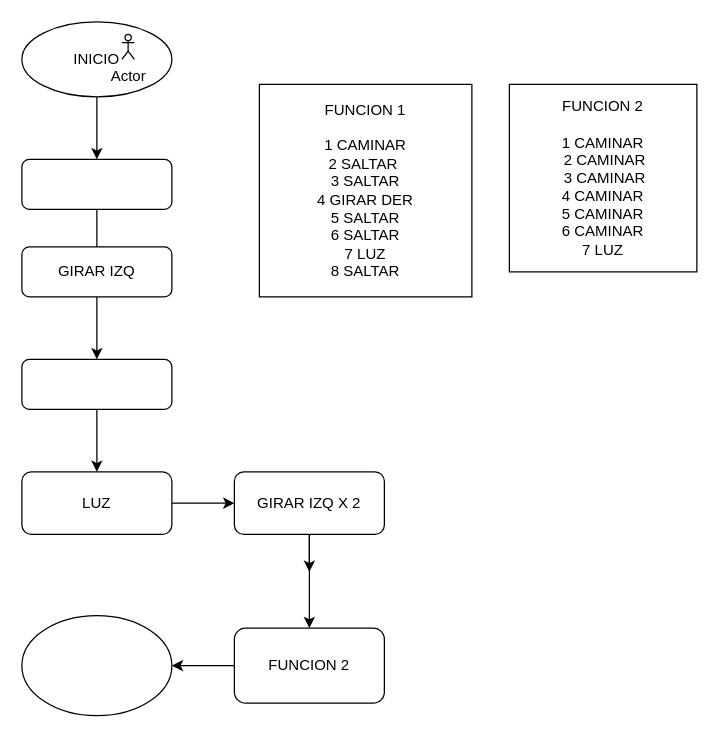
Image size: 719x738. Some labels were removed from this diagram. Here are the shapes that lost their labels. From the top down, the centre of each, then its label:
At (96,183): "FUNCION 1".
At (96,383): "CAMINAR X 3".
At (96,665): "FIN".
